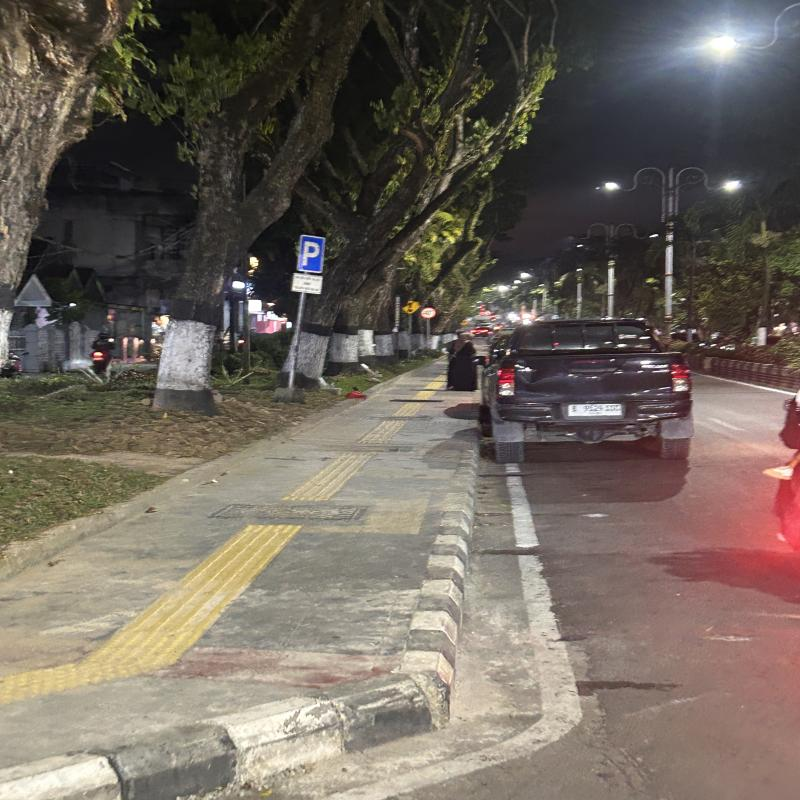license plate on a car: (568, 405, 621, 417)
